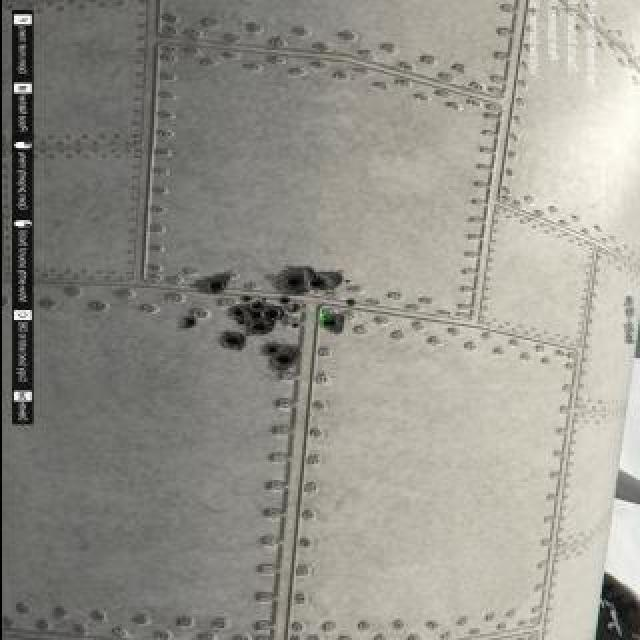crack: (281, 268, 349, 294), (234, 301, 284, 333), (259, 341, 301, 373), (191, 269, 227, 297), (313, 314, 343, 334), (221, 334, 245, 350), (181, 315, 195, 329)
